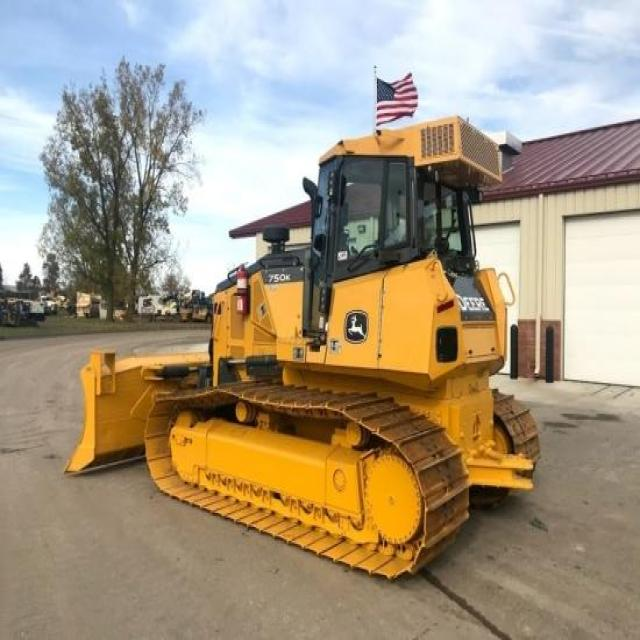buldozerpayloadergrader: (68, 93, 544, 592)
